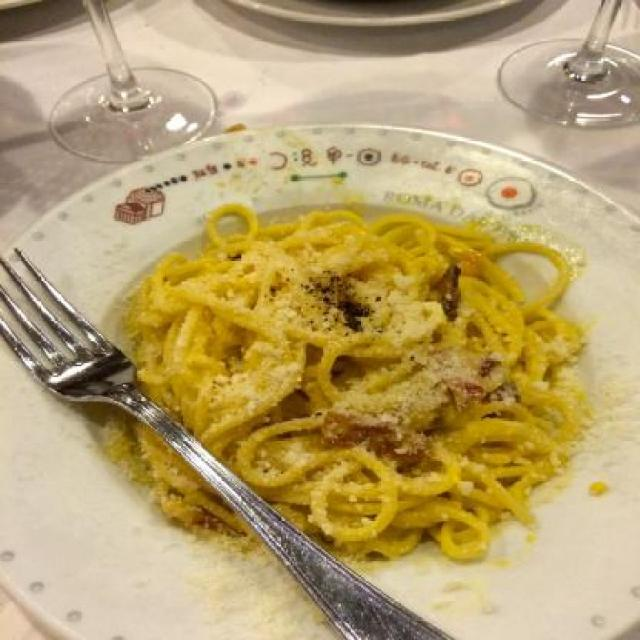Pasta with carbonara sauce: (50, 152, 612, 602)
